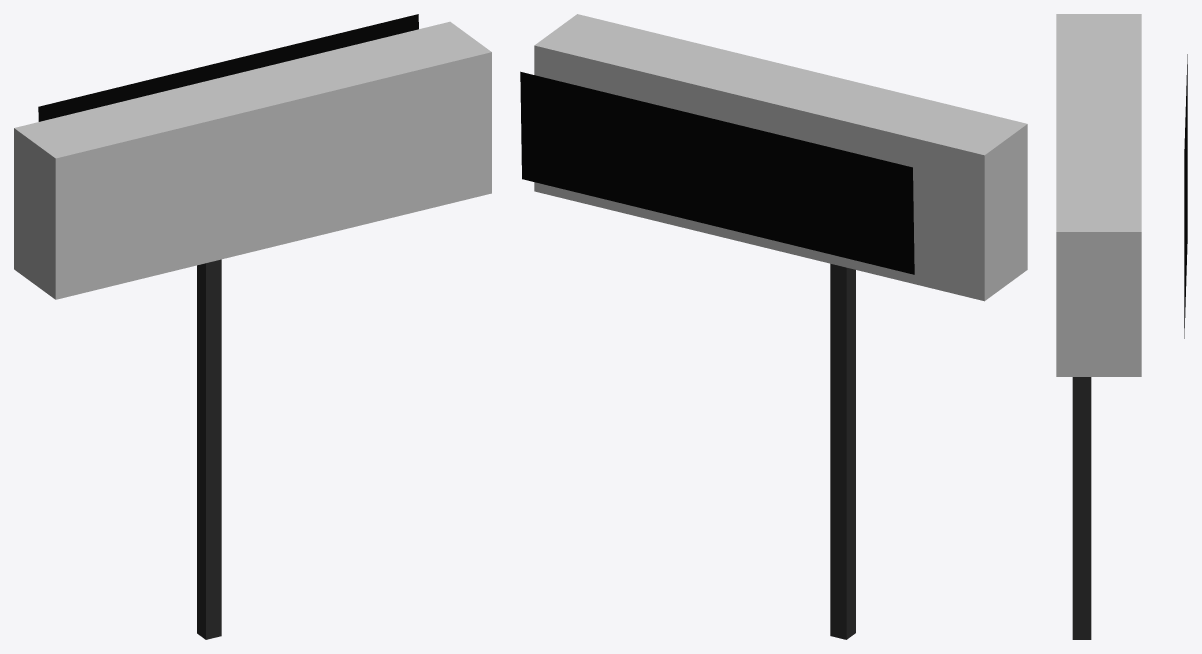
File: s230Sign_antic.obj
3 renders of one model, left to right at view 1: azimuth 30°, elevation 25°; view 2: azimuth 150°, elevation 25°; view 3: azimuth 270°, elevation 25°, orthographic. The views are drawn at different scales.
Parts seen in each view (by area): view 1: Cube.002, Cube.001, Plane; view 2: Cube.002, Plane, Cube.001; view 3: Cube.002, Cube.001, Plane.
Part boxes in pixels (box(x1,y1,x2,y2)): Cube.002: box(14, 21, 491, 299); Cube.001: box(197, 259, 221, 639); Plane: box(38, 14, 418, 121); Cube.002: box(534, 14, 1027, 301); Plane: box(520, 71, 914, 274); Cube.001: box(830, 263, 855, 639); Cube.002: box(1056, 14, 1141, 376); Cube.001: box(1072, 377, 1091, 639); Plane: box(1184, 54, 1187, 338).
Size of the model in its own units: 5.45 by 6.28 by 1.39.
